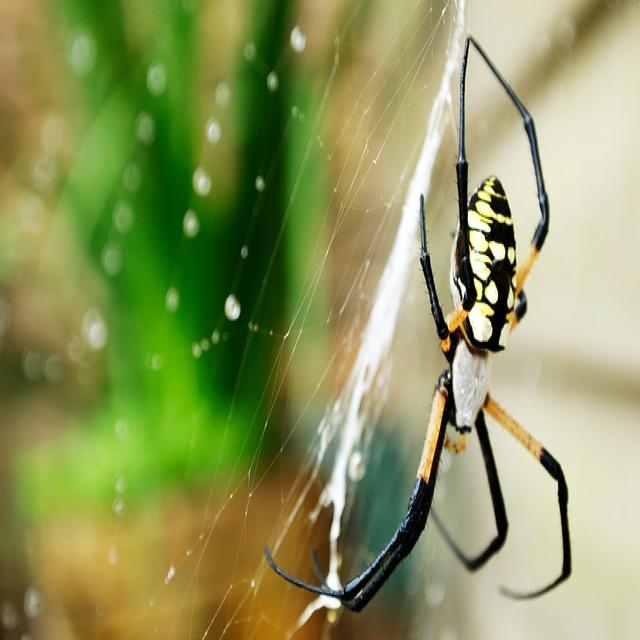spyder: (263, 38, 573, 616)
